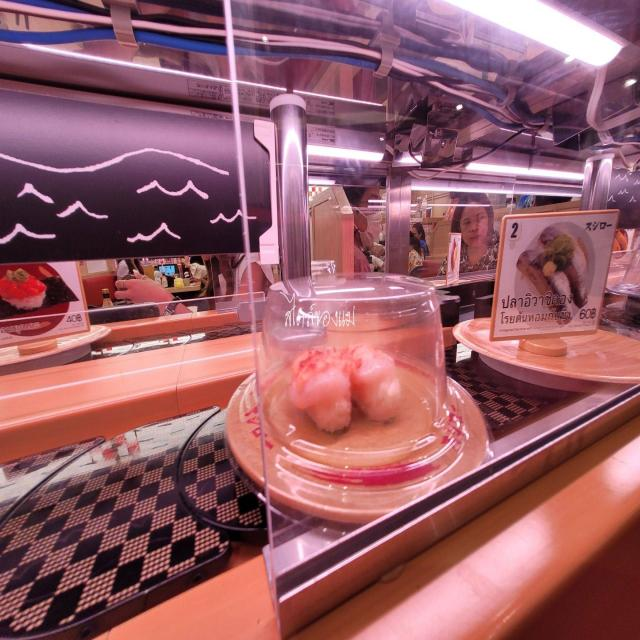jangold: (211, 342, 508, 551)
